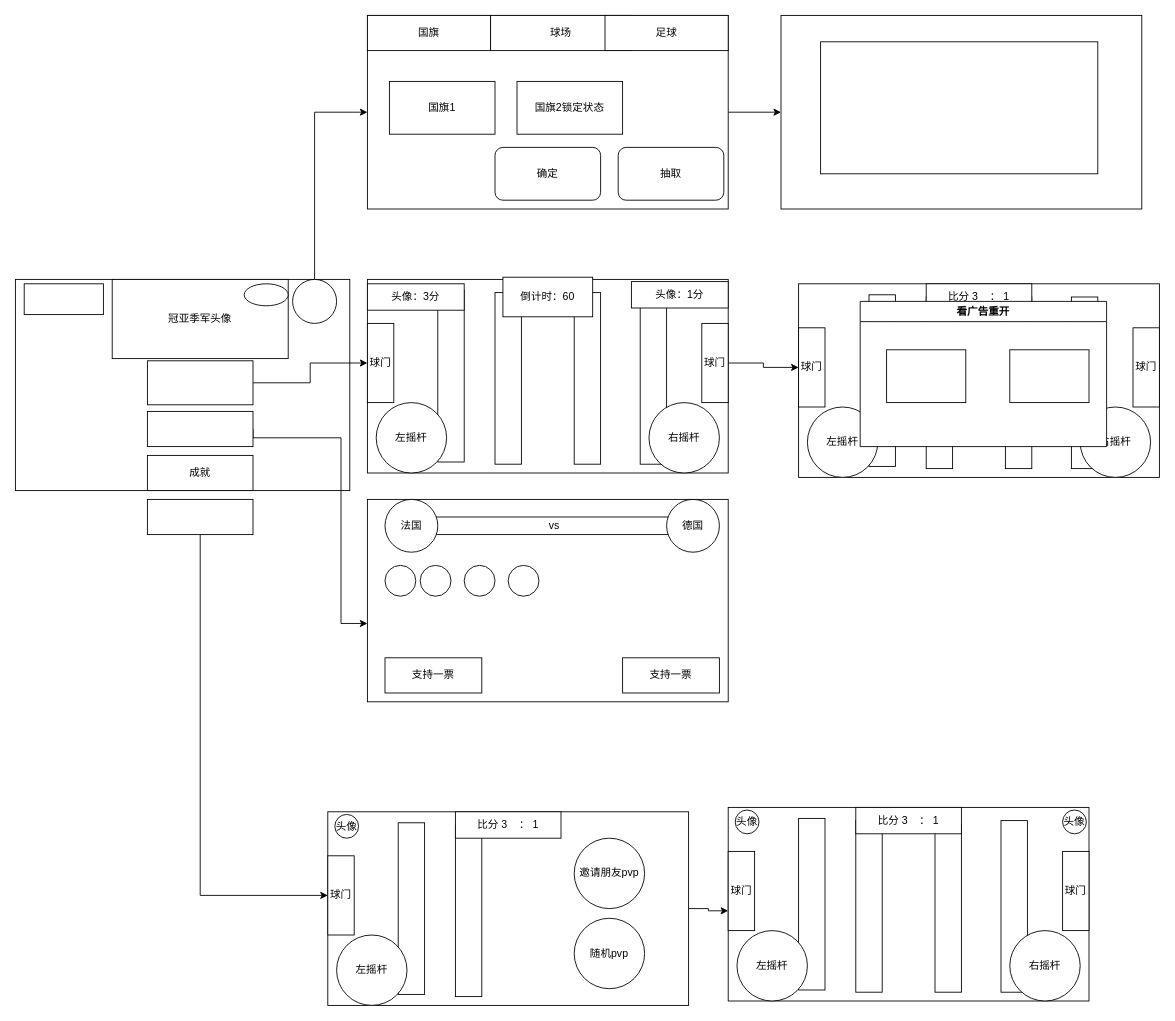
The diagram is 1175 pixels wide and 1021 high, and some of its shapes have lost their labels. Each missing label, with the centre of its shape:
pvp: the point at 200,517
世界杯预言帝: the point at 200,429
分享重开: the point at 926,376
头像，体力：10: the point at 63,299
开始游戏: the point at 200,382
恭喜得国旗xxx: the point at 959,107
皮肤: the point at 314,301
看视频重开: the point at 1049,376
设置: the point at 265,294
